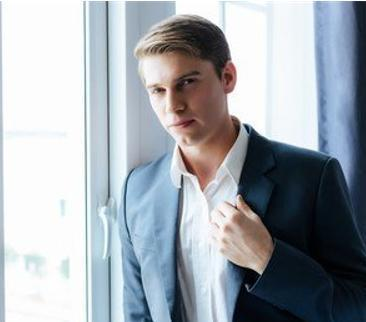Sober: (141, 57, 218, 147)
